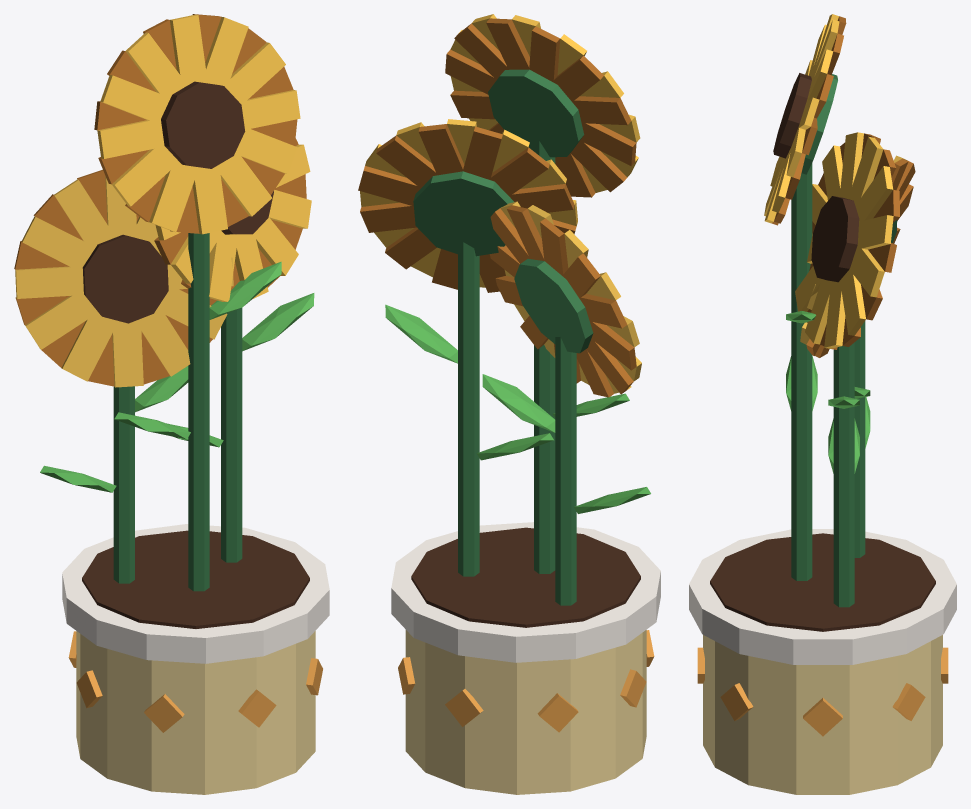
File: CatCafe_Decor_SunflowerPot.glb
3 renders of one model, left to right at view 1: azimuth 30°, elevation 25°; view 2: azimuth 150°, elevation 25°; view 3: azimuth 270°, elevation 25°, orthographic.
Visible parts, largest first — view 1: CatCafe_Decor_SunflowerPot; view 2: CatCafe_Decor_SunflowerPot; view 3: CatCafe_Decor_SunflowerPot.
Part boxes in pixels (box(x1,y1,x2,y2)): CatCafe_Decor_SunflowerPot: box(14, 14, 329, 794); CatCafe_Decor_SunflowerPot: box(358, 14, 660, 794); CatCafe_Decor_SunflowerPot: box(689, 14, 956, 794).
Bounding box in the file's own units: 1.84 × 4.49 × 1.52.
1 material, 1 textured.
